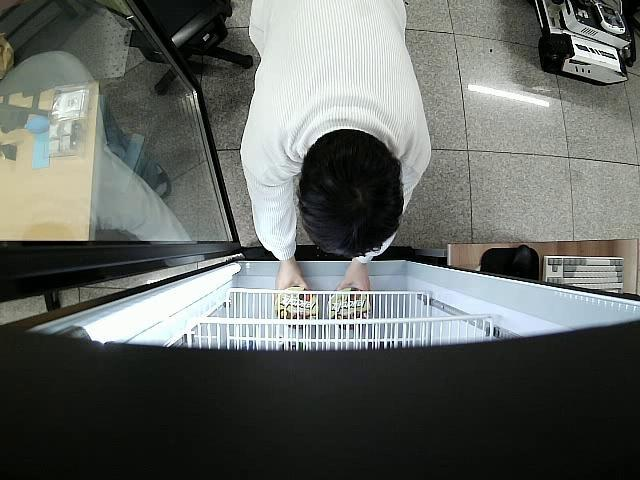03_chapagetti_L: (273, 286, 318, 329), (328, 290, 372, 331)
